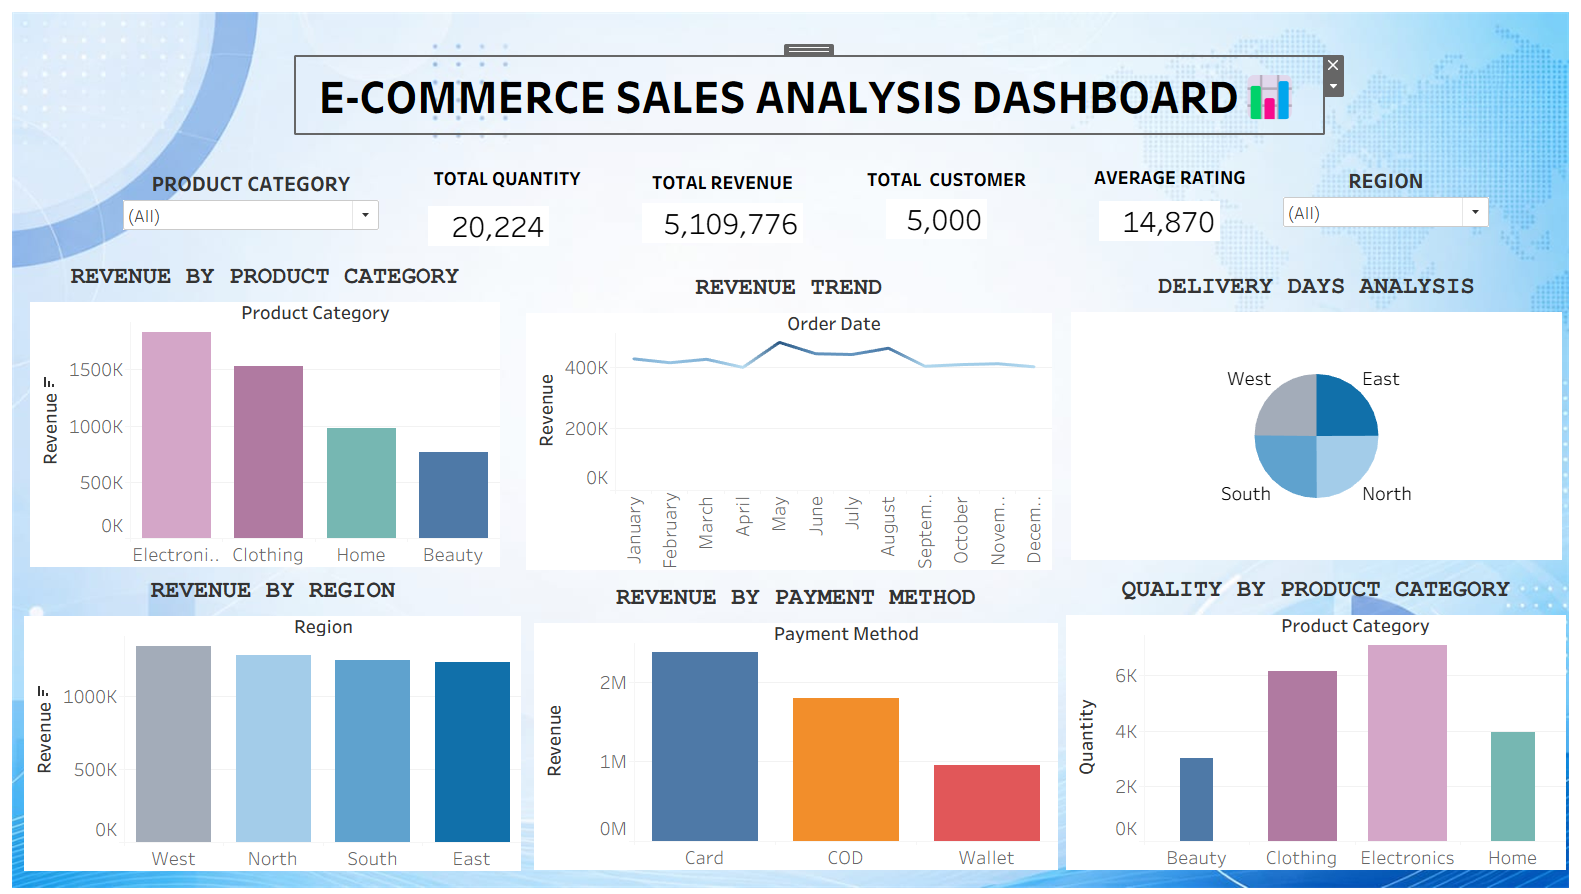

The page's visual inventory and layout, read from the dashboard file:
{"tool":"tableau","page":{"name":"Dashboard 1","canvas":[1000,1000],"units":"permille","ordinal":0},"visuals":[{"type":"image","param":"C:/Users/scchr/Downloads/WhatsApp Image 2026-08-27 at 10.01.56 AM.jpeg","box":[16.2,32.4,940.1,946]},{"type":"text","box":[188.9,81,617.2,82.1]},{"type":"text","box":[664,194.4,99.8,32.4]},{"type":"text","box":[266.8,195.5,97.3,32.4]},{"type":"text","box":[527.4,196.5,104.1,32.4]},{"type":"filter","title":"delivert days analysis","param":"[federated.14s04df0b4m33q10xmujw1vhm2qn].[none:region:nk]","box":[779.9,198.7,127.2,96.1]},{"type":"text","box":[398.4,199.8,92.9,32.4]},{"type":"filter","title":"revenue by product category","param":"[federated.14s04df0b4m33q10xmujw1vhm2qn].[none:product_category:nk]","box":[82.9,201.9,157.7,95]},{"type":"worksheet","title":"Total Revenue","mark":"Automatic","box":[396.5,222.5,107.2,64.8]},{"type":"worksheet","title":"Total Quantity","mark":"Automatic","box":[268.1,225.7,118.5,82.1]},{"type":"worksheet","title":"Total Customer","mark":"Automatic","box":[543,234.3,82.9,60.5]},{"type":"worksheet","title":"Avg Rating","mark":"Automatic","box":[671.5,236.5,87.3,52.9]},{"type":"worksheet","title":"revenue by product category","mark":"Automatic","rows":["revenue"],"cols":["product_category"],"box":[28.7,299.1,282.4,332.6]},{"type":"worksheet","title":"delivert days analysis","mark":"Pie","box":[654.6,309.9,294.9,314.2]},{"type":"worksheet","title":"revenue trend ","mark":"Automatic","rows":["revenue"],"cols":["order_date"],"box":[326.7,311,316.1,324]},{"type":"worksheet","title":"quality by product category","mark":"Automatic","rows":["quantity"],"cols":["product_category"],"box":[651.5,637.1,300.5,321.8]},{"type":"worksheet","title":"revenue by region","mark":"Automatic","rows":["revenue"],"cols":["region"],"box":[24.9,638.2,299.2,321.8]},{"type":"worksheet","title":"revenue by payment method","mark":"Automatic","rows":["revenue"],"cols":["payment_method"],"box":[331.7,645.8,314.8,313.2]}]}

Visuals, with their boxes on the dashboard's canvas, which has no fixed pixel size, in thousandths of its width and height (x1, y1, x2, y2). These are canvas units, not pixel positions in the 1581x894 screenshot, which may show the page scaled, cropped or inside an application window:
image: 16 32 956 978
text: 189 81 806 163
text: 664 194 764 227
text: 267 196 364 228
text: 527 196 632 229
"delivert days analysis" filter: 780 199 907 295
text: 398 200 491 232
"revenue by product category" filter: 83 202 241 297
"Total Revenue" worksheet: 396 222 504 287
"Total Quantity" worksheet: 268 226 387 308
"Total Customer" worksheet: 543 234 626 295
"Avg Rating" worksheet: 672 236 759 289
"revenue by product category" worksheet: 29 299 311 632
"delivert days analysis" worksheet (Pie marks): 655 310 950 624
"revenue trend " worksheet: 327 311 643 635
"quality by product category" worksheet: 652 637 952 959
"revenue by region" worksheet: 25 638 324 960
"revenue by payment method" worksheet: 332 646 646 959
